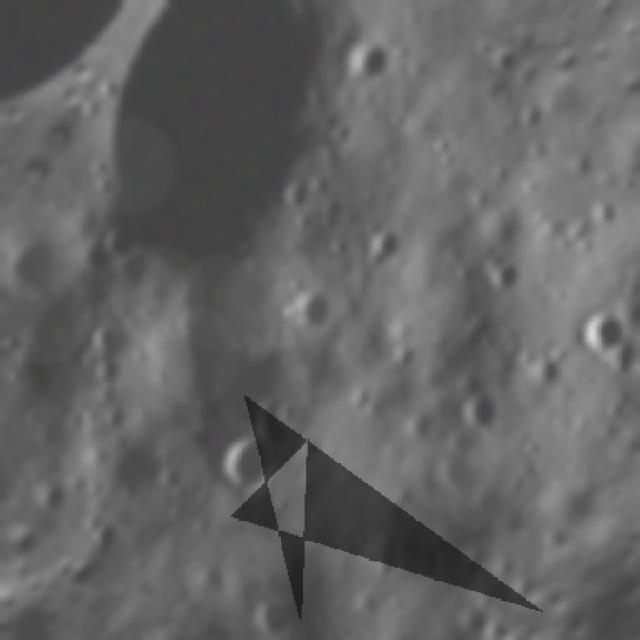crater: (210, 424, 278, 493), (328, 33, 399, 99), (563, 296, 632, 362), (238, 383, 304, 446), (350, 215, 408, 283), (448, 379, 512, 438), (246, 589, 299, 640), (82, 508, 135, 557), (292, 285, 336, 332), (77, 315, 118, 354), (482, 254, 521, 294), (418, 120, 458, 158), (68, 398, 105, 433), (102, 224, 138, 258), (339, 518, 375, 552), (278, 177, 310, 212), (0, 326, 26, 362), (570, 230, 595, 262), (89, 356, 117, 382), (631, 229, 640, 305), (594, 195, 617, 223), (629, 160, 640, 192), (0, 393, 3, 433)
